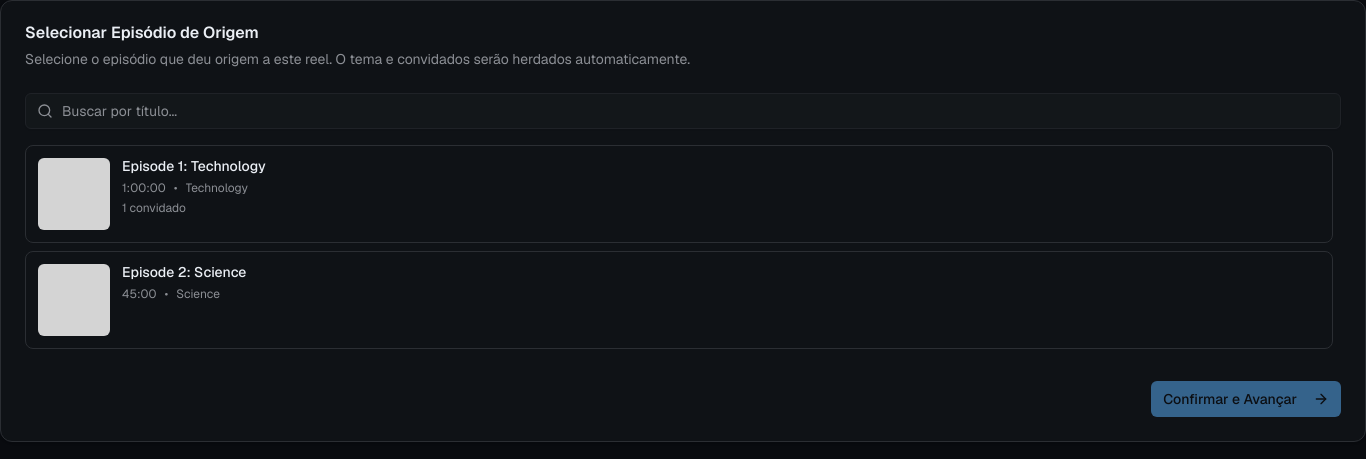
it: Phase0ParentSelection › Search functionality › shows "no results" message when search returns empty (AC2)
Type search term with 5+ chars
Type "nonexistent" into the field with placeholder "Buscar por título..." at (683, 111), box [25, 93, 1341, 129]
Wait 350 ms
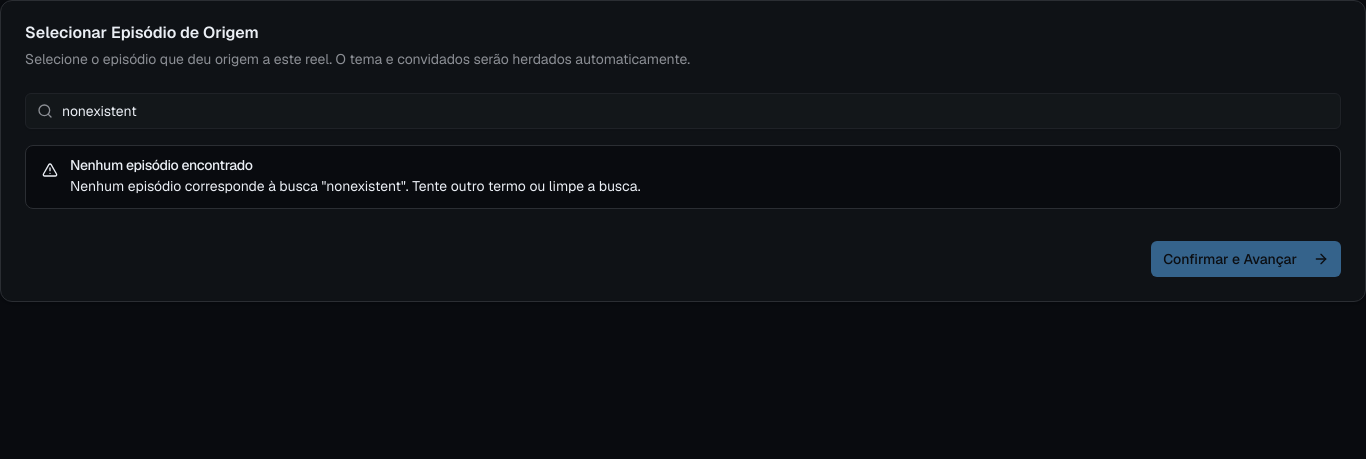
Expected: the heading "Nenhum episódio encontrado" is shown, [70, 156, 253, 174]
Expected: the text "nonexistent" is shown, [326, 177, 401, 195]
